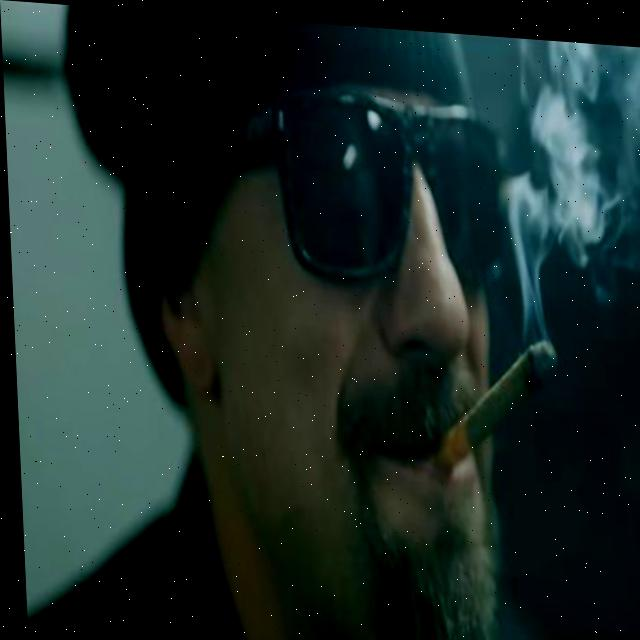cigarette: (431, 326, 559, 474)
